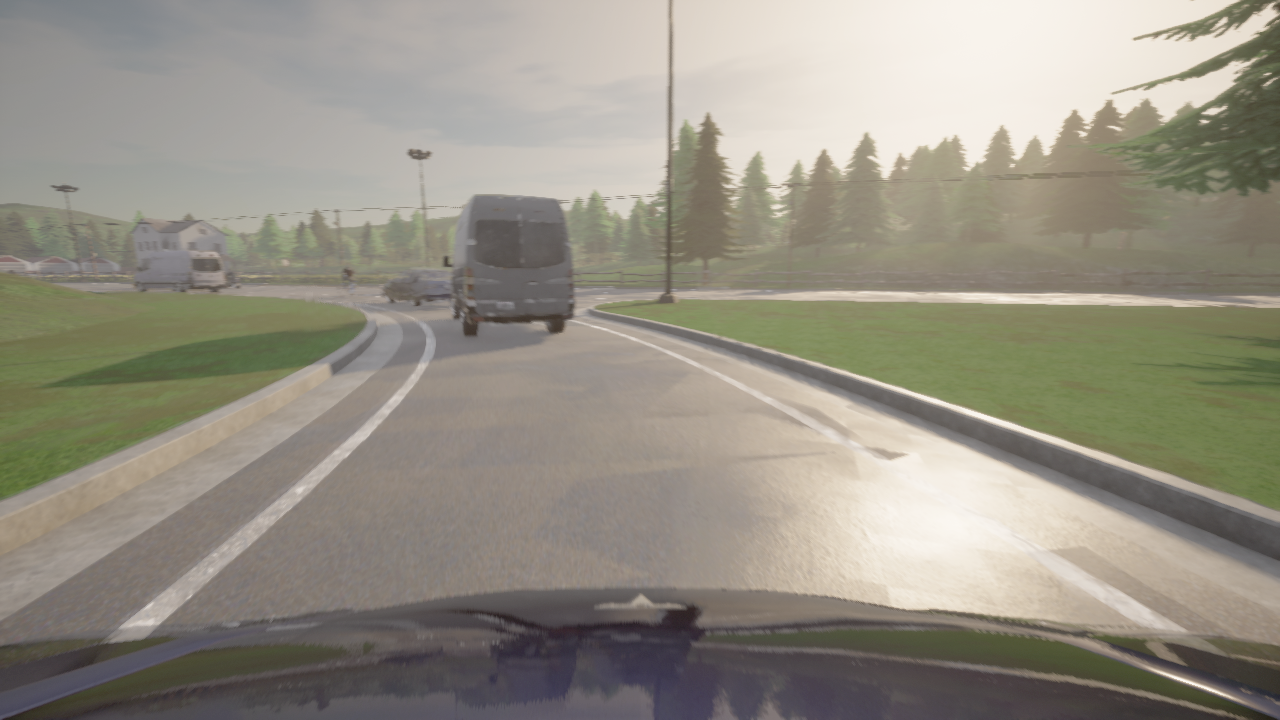cyclist: (0, 588, 1279, 719), (442, 195, 574, 336), (133, 250, 225, 293), (381, 268, 450, 307), (338, 282, 357, 297), (225, 275, 239, 288)
